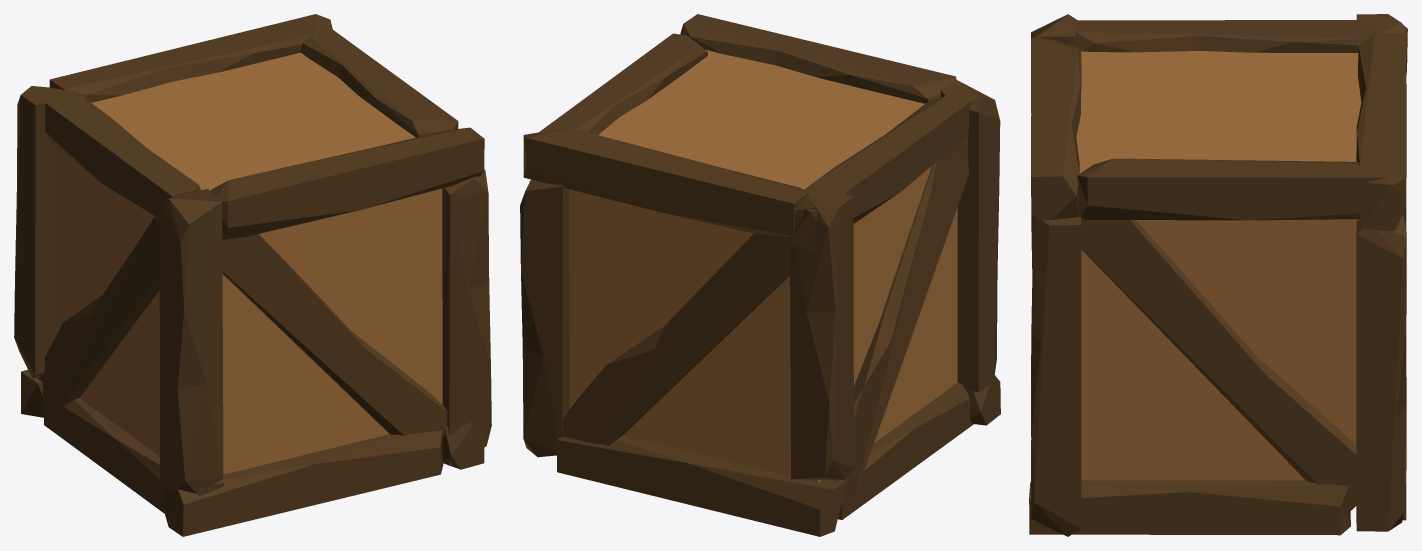
File: SM_crate_01.fbx
The picture shows the model from 3 angles, left to right: view 1: azimuth 30°, elevation 25°; view 2: azimuth 150°, elevation 25°; view 3: azimuth 270°, elevation 25°; orthographic projection. The views are drawn at different scales.
Parts seen in each view (by area): view 1: Box41331; view 2: Box41331; view 3: Box41331.
Part boxes in pixels (x1,y1,x2,y2): Box41331: (14, 14, 491, 536); Box41331: (520, 14, 1000, 536); Box41331: (1029, 14, 1407, 536).
Bounding box in the file's own units: 36.47 × 36.47 × 34.64.
